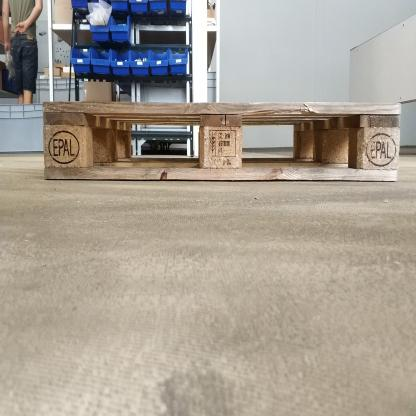BoxFace: (40, 96, 403, 185)
